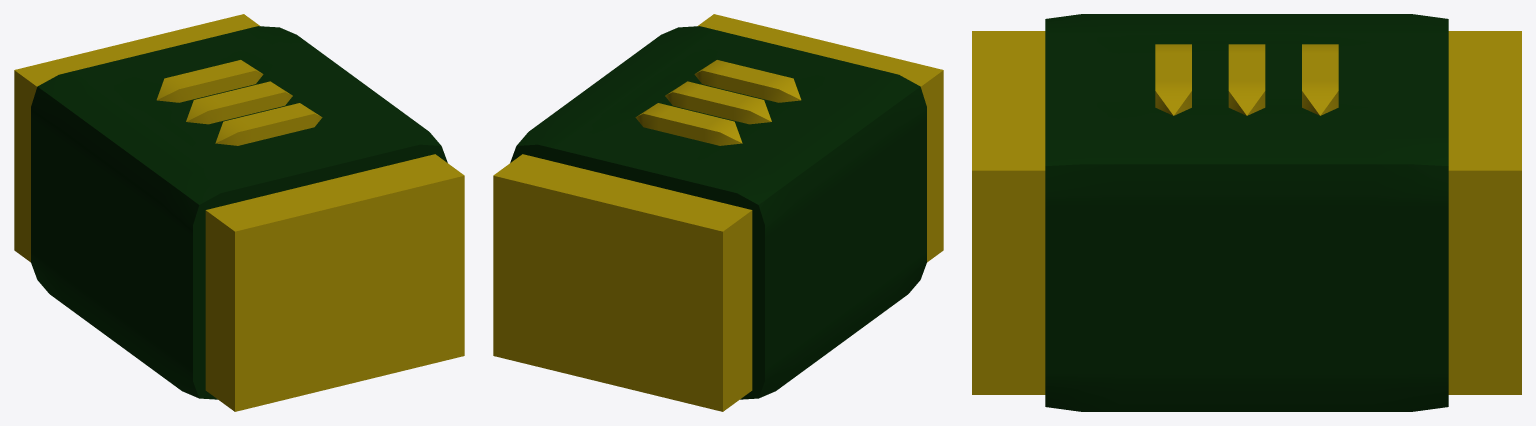
File: B_Ammo_Pack.fbx
3 views of the same model, side by side, from view 1: azimuth 30°, elevation 25°; view 2: azimuth 150°, elevation 25°; view 3: azimuth 270°, elevation 25° (orthographic). The views are drawn at different scales.
Visible parts, largest first — view 1: Ammo_Pack; view 2: Ammo_Pack; view 3: Ammo_Pack.
Part boxes in pixels (box(x1,y1,x2,y2)): Ammo_Pack: box(14, 14, 464, 411); Ammo_Pack: box(493, 14, 943, 411); Ammo_Pack: box(972, 14, 1521, 411).
Bounding box in the file's own units: 37.82 × 31.23 × 56.74.
